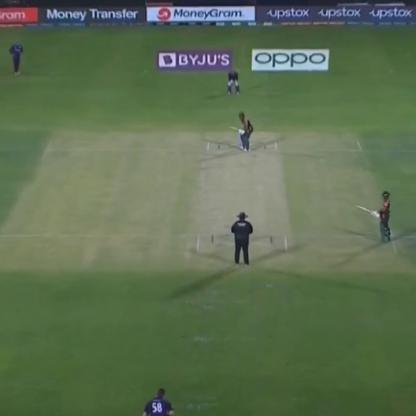bat: (348, 201, 378, 215), (222, 118, 242, 134)
pitch: (196, 140, 284, 254)
